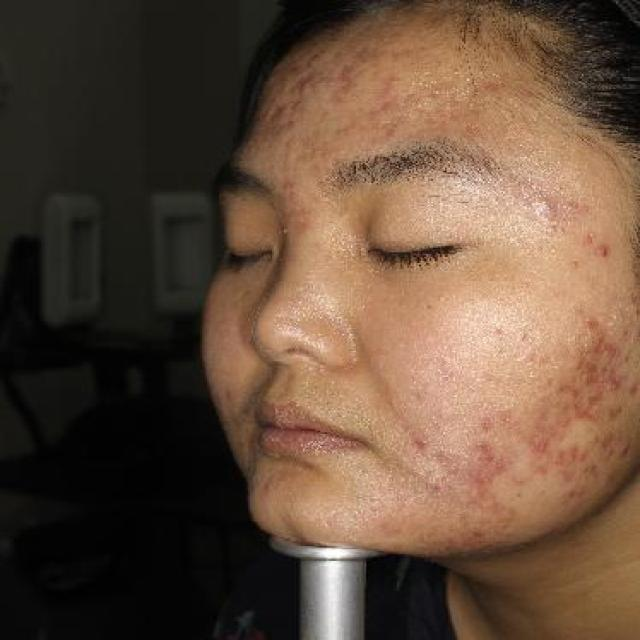papules: (296, 74, 330, 98), (267, 102, 301, 125), (592, 238, 620, 262)
